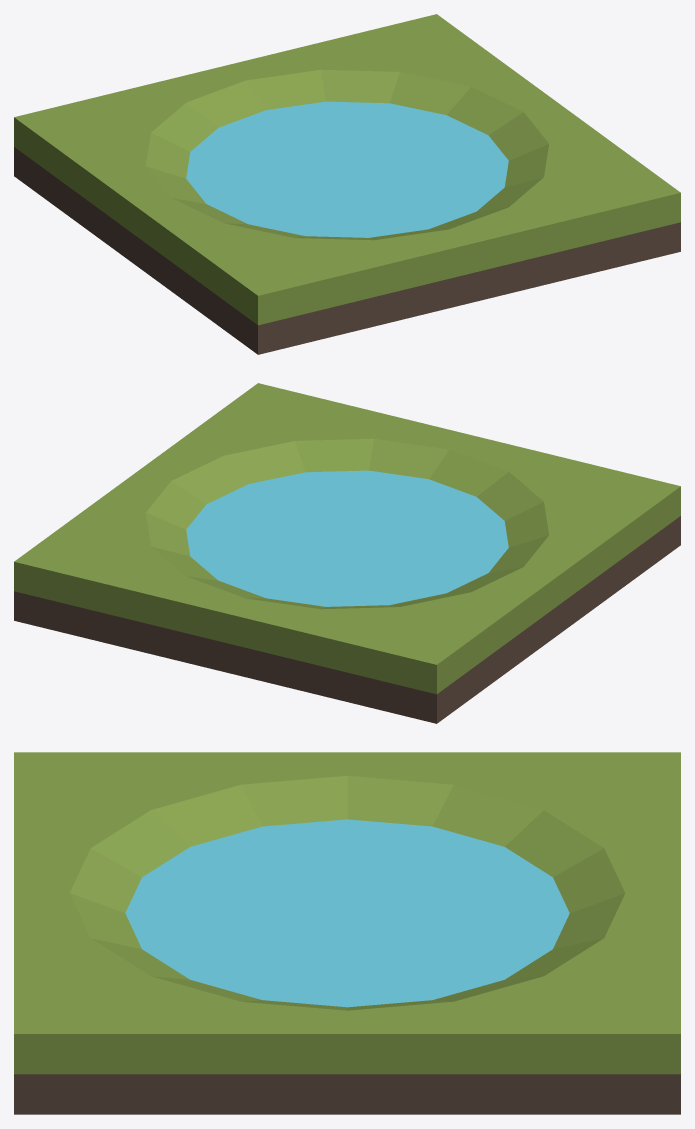
The model's file is grass-tile-pond_01.fbx.
3 renders of one model, top to bottom at view 1: azimuth 30°, elevation 25°; view 2: azimuth 150°, elevation 25°; view 3: azimuth 270°, elevation 25°, orthographic. The views are drawn at different scales.
Visible parts, largest first — view 1: grass-tile-pond_01; view 2: grass-tile-pond_01; view 3: grass-tile-pond_01.
Part boxes in pixels (bbox=[...]): grass-tile-pond_01: bbox=[14, 14, 680, 354]; grass-tile-pond_01: bbox=[14, 383, 680, 723]; grass-tile-pond_01: bbox=[14, 752, 680, 1114].
Size of the model in its own units: 3000 by 400 by 3000.
